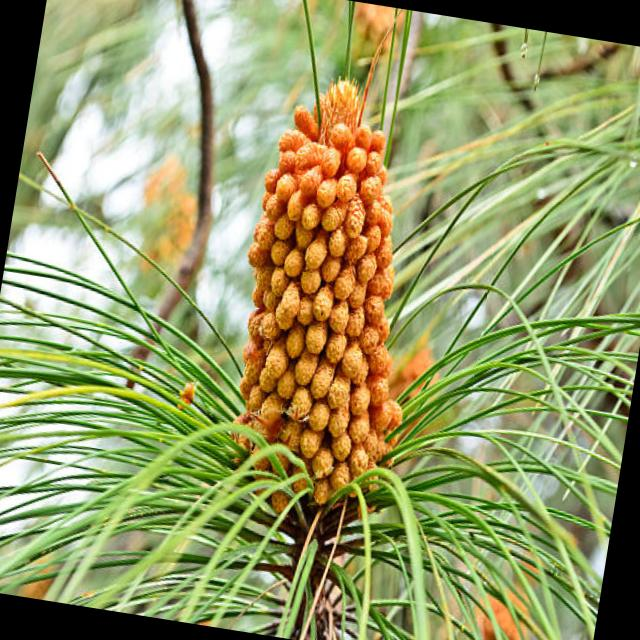Pine: (0, 90, 640, 640), (137, 60, 542, 567)
